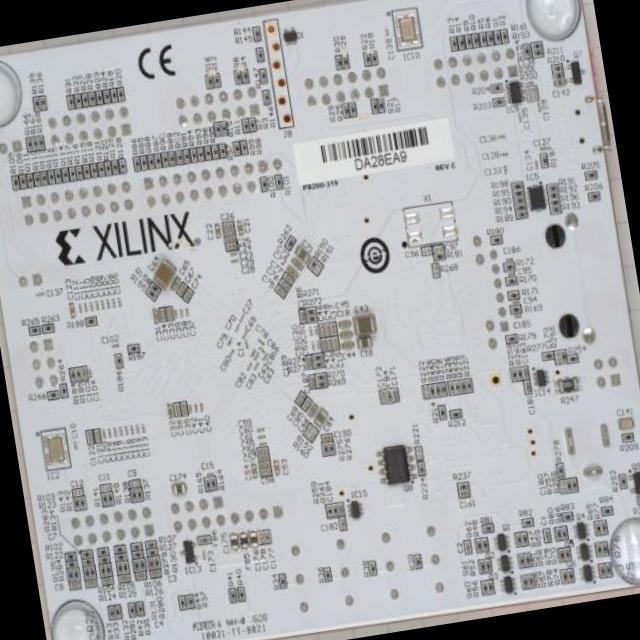IC: (376, 442, 418, 486), (42, 430, 71, 468), (394, 12, 421, 47), (525, 182, 549, 214), (502, 80, 528, 106), (178, 539, 200, 564), (346, 499, 366, 520), (498, 574, 518, 594), (493, 532, 512, 552), (495, 552, 514, 572), (572, 520, 591, 540), (578, 563, 597, 583), (532, 368, 550, 388), (576, 542, 594, 562), (282, 24, 297, 46)
capacitor: (148, 254, 182, 292), (352, 312, 378, 337), (292, 242, 314, 266), (310, 405, 332, 429), (166, 274, 184, 294), (305, 400, 322, 420), (284, 262, 300, 281), (616, 416, 636, 431), (228, 530, 240, 554), (289, 255, 305, 272), (248, 528, 260, 550), (356, 336, 374, 350), (170, 482, 188, 496), (176, 282, 188, 296), (182, 288, 194, 302), (338, 329, 354, 339), (301, 398, 313, 411), (279, 278, 290, 292), (337, 319, 352, 329), (340, 340, 355, 350), (214, 222, 222, 240), (236, 218, 244, 236), (68, 302, 76, 320), (152, 307, 160, 325), (250, 461, 258, 479), (272, 458, 280, 476), (276, 284, 286, 298), (296, 393, 306, 406), (552, 77, 566, 86), (284, 272, 294, 284), (167, 402, 174, 419), (80, 366, 88, 380), (464, 540, 472, 554), (180, 402, 188, 415), (332, 337, 340, 350), (326, 337, 334, 350), (321, 338, 328, 352), (264, 530, 271, 544), (337, 502, 344, 516), (306, 356, 314, 368), (166, 307, 173, 320), (174, 403, 181, 416), (319, 325, 326, 338), (324, 324, 331, 337), (330, 323, 337, 336), (380, 390, 387, 403), (524, 381, 531, 394), (258, 531, 265, 544), (339, 517, 346, 530), (86, 578, 97, 586), (102, 576, 113, 584), (119, 574, 130, 582), (136, 572, 147, 580), (150, 570, 161, 578), (299, 310, 306, 322), (392, 388, 398, 402), (223, 221, 233, 229), (224, 229, 234, 237), (226, 243, 236, 251), (256, 336, 264, 346), (258, 344, 266, 354), (252, 352, 260, 362), (544, 529, 550, 542), (160, 309, 167, 320), (232, 324, 240, 333), (225, 338, 233, 347), (251, 362, 259, 371), (240, 331, 248, 340), (262, 351, 270, 360), (248, 350, 256, 359), (310, 376, 316, 388), (522, 367, 528, 379), (226, 236, 236, 243), (258, 455, 268, 462), (260, 469, 270, 476), (322, 435, 332, 442), (460, 490, 470, 497), (94, 431, 100, 442), (237, 316, 245, 324), (245, 363, 252, 372), (78, 304, 84, 314), (178, 306, 184, 316), (184, 306, 190, 316), (87, 432, 93, 442), (118, 428, 124, 438), (124, 426, 130, 436), (258, 448, 268, 454), (260, 462, 270, 468), (70, 582, 80, 588), (502, 164, 508, 173), (88, 303, 94, 312), (72, 442, 78, 451), (117, 298, 122, 308), (173, 308, 178, 318), (311, 342, 316, 352), (113, 428, 118, 438), (130, 426, 135, 436), (136, 425, 141, 435), (141, 424, 146, 434), (230, 258, 238, 264), (498, 134, 506, 140), (256, 427, 264, 433), (258, 441, 266, 447), (517, 114, 522, 123), (193, 402, 198, 411), (199, 402, 204, 411), (244, 341, 249, 350), (309, 328, 314, 337), (201, 549, 206, 558), (37, 291, 44, 297), (534, 160, 539, 168), (83, 304, 88, 312), (314, 326, 318, 336), (108, 430, 112, 440), (506, 256, 512, 262), (188, 403, 192, 412), (316, 342, 320, 351), (229, 252, 236, 257), (501, 151, 508, 156), (539, 146, 546, 151), (206, 472, 213, 477), (537, 104, 541, 112), (95, 302, 99, 310), (101, 302, 105, 310), (106, 301, 110, 309), (112, 300, 116, 308), (88, 368, 92, 376), (110, 344, 118, 348), (102, 431, 106, 439), (528, 80, 534, 85), (508, 271, 514, 276), (514, 314, 520, 319), (258, 434, 264, 439), (512, 300, 518, 304)
connector: (584, 92, 614, 156)
resistor: (552, 374, 582, 396), (146, 288, 158, 300), (284, 237, 296, 249), (150, 282, 160, 294), (308, 258, 318, 270), (417, 461, 425, 476), (32, 96, 40, 110), (190, 148, 198, 162), (540, 154, 548, 168), (69, 368, 77, 382), (75, 367, 83, 381), (476, 539, 484, 553), (481, 538, 489, 552), (484, 558, 492, 572), (515, 532, 523, 546), (520, 532, 528, 546), (524, 553, 532, 567), (518, 554, 526, 568), (522, 576, 530, 590), (527, 574, 535, 588), (558, 548, 566, 562), (561, 570, 569, 584), (567, 568, 575, 582), (600, 520, 608, 534), (598, 564, 606, 578), (604, 563, 612, 577), (74, 94, 82, 107), (212, 145, 220, 158), (240, 141, 248, 154), (242, 119, 250, 132), (206, 75, 214, 88), (260, 178, 268, 191), (450, 37, 458, 50), (486, 32, 494, 45), (434, 384, 442, 397), (440, 383, 448, 396), (322, 442, 330, 455), (438, 406, 446, 419), (324, 569, 332, 582), (32, 136, 39, 150), (154, 154, 161, 168), (233, 142, 240, 156), (214, 122, 221, 136), (349, 102, 356, 116), (364, 52, 371, 66), (523, 44, 530, 58), (89, 564, 96, 578), (326, 504, 333, 518), (561, 526, 568, 540), (90, 164, 98, 176), (248, 118, 256, 130), (342, 104, 350, 116), (316, 380, 328, 388), (560, 350, 568, 362), (72, 568, 80, 580), (522, 518, 534, 526), (562, 513, 574, 521), (27, 173, 34, 186), (41, 171, 48, 184), (49, 170, 56, 183), (76, 166, 83, 179), (162, 153, 169, 166), (169, 152, 176, 165), (176, 151, 183, 164), (183, 150, 190, 163), (219, 144, 226, 157), (220, 122, 227, 135), (213, 73, 220, 86), (235, 71, 242, 84), (256, 48, 263, 61), (263, 91, 270, 104), (275, 176, 282, 189), (370, 51, 377, 64), (465, 36, 472, 49), (472, 34, 479, 47), (480, 33, 487, 46), (494, 31, 501, 44), (61, 384, 68, 397), (115, 354, 122, 367), (429, 385, 436, 398), (454, 381, 461, 394), (460, 380, 467, 393), (465, 379, 472, 392), (517, 367, 524, 380), (510, 368, 517, 381), (74, 497, 81, 510), (78, 496, 85, 509), (136, 488, 143, 501), (105, 563, 112, 576), (148, 557, 155, 570), (108, 606, 115, 619), (115, 605, 122, 618), (179, 596, 186, 609), (230, 589, 237, 602), (369, 562, 376, 575), (415, 555, 422, 568), (332, 504, 339, 517), (487, 580, 494, 593), (595, 521, 602, 534), (596, 543, 603, 556), (553, 71, 564, 79), (482, 525, 493, 533), (602, 507, 613, 515), (111, 90, 118, 102), (26, 138, 33, 150), (37, 136, 44, 148), (98, 164, 105, 176), (134, 158, 141, 170), (197, 148, 204, 160), (254, 27, 260, 41), (501, 30, 508, 42), (449, 382, 456, 394), (328, 442, 335, 454), (210, 477, 217, 489), (83, 566, 90, 578), (238, 588, 245, 600), (280, 574, 286, 588), (479, 560, 486, 572), (482, 582, 489, 594), (564, 548, 571, 560), (602, 542, 608, 556), (557, 464, 564, 476), (571, 478, 578, 490), (204, 148, 212, 158), (532, 49, 542, 57), (552, 64, 562, 72), (492, 84, 502, 92), (494, 98, 504, 106), (512, 182, 522, 190), (514, 190, 524, 198), (514, 196, 524, 204), (516, 203, 526, 211), (547, 184, 557, 192), (548, 192, 558, 200), (550, 198, 560, 206), (550, 206, 560, 214), (586, 172, 596, 180), (589, 192, 599, 200), (30, 327, 40, 335), (44, 324, 54, 332), (86, 316, 96, 324), (434, 252, 444, 260), (491, 236, 501, 244), (128, 344, 138, 352), (306, 308, 316, 316), (306, 315, 316, 323), (314, 360, 324, 368), (504, 263, 514, 271), (506, 335, 516, 343), (544, 352, 554, 360), (623, 433, 633, 441), (458, 482, 468, 490), (66, 560, 76, 568), (82, 550, 92, 558), (82, 558, 92, 566), (100, 555, 110, 563), (116, 554, 126, 562), (133, 551, 143, 559), (148, 548, 158, 556), (104, 90, 110, 103), (118, 88, 124, 101), (20, 175, 26, 188), (34, 172, 40, 185), (458, 36, 464, 49), (68, 568, 74, 581), (100, 564, 106, 577), (566, 479, 572, 492), (371, 101, 378, 112), (336, 57, 343, 68), (342, 56, 349, 67), (40, 96, 46, 108), (82, 94, 88, 106), (96, 92, 102, 104), (12, 176, 18, 188), (55, 170, 61, 182), (62, 168, 68, 180), (70, 168, 76, 180), (84, 165, 90, 177), (104, 162, 110, 174), (112, 160, 118, 172), (119, 160, 125, 172), (148, 156, 154, 168), (140, 156, 146, 168), (242, 70, 248, 82), (260, 70, 266, 82), (206, 479, 212, 491), (102, 494, 108, 506), (108, 492, 114, 504), (132, 489, 138, 501), (117, 562, 123, 574), (122, 561, 128, 573), (134, 560, 140, 572), (139, 559, 145, 571), (154, 556, 160, 568), (130, 604, 136, 616), (138, 603, 144, 615), (188, 596, 194, 608), (556, 528, 562, 540), (620, 476, 626, 488), (532, 43, 542, 50), (516, 211, 526, 218), (48, 391, 58, 398), (313, 354, 323, 361), (316, 374, 326, 381), (509, 292, 519, 299), (451, 411, 461, 418), (66, 553, 76, 560), (98, 548, 108, 555), (115, 545, 125, 552), (146, 541, 156, 548), (68, 97, 74, 108), (89, 94, 95, 105), (378, 100, 384, 111), (511, 306, 521, 312), (568, 356, 578, 362), (132, 544, 142, 550)
transistor: (565, 60, 587, 86), (626, 470, 640, 495)
